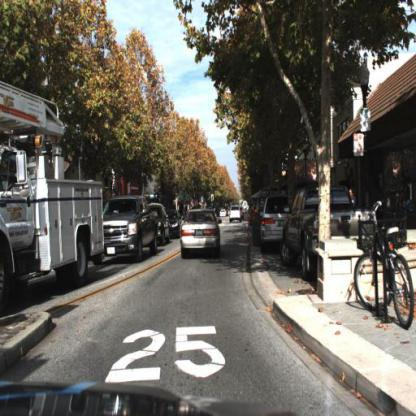car: (283, 186, 376, 276), (102, 194, 159, 267), (178, 206, 224, 262), (260, 195, 284, 250), (155, 203, 170, 256), (229, 202, 244, 228)
truck: (1, 91, 105, 302)
